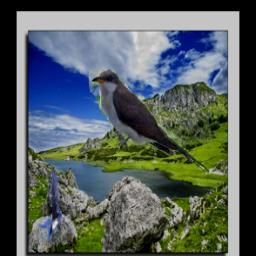Cuckoo: (89, 69, 209, 175)
Swallow: (39, 170, 62, 243)
